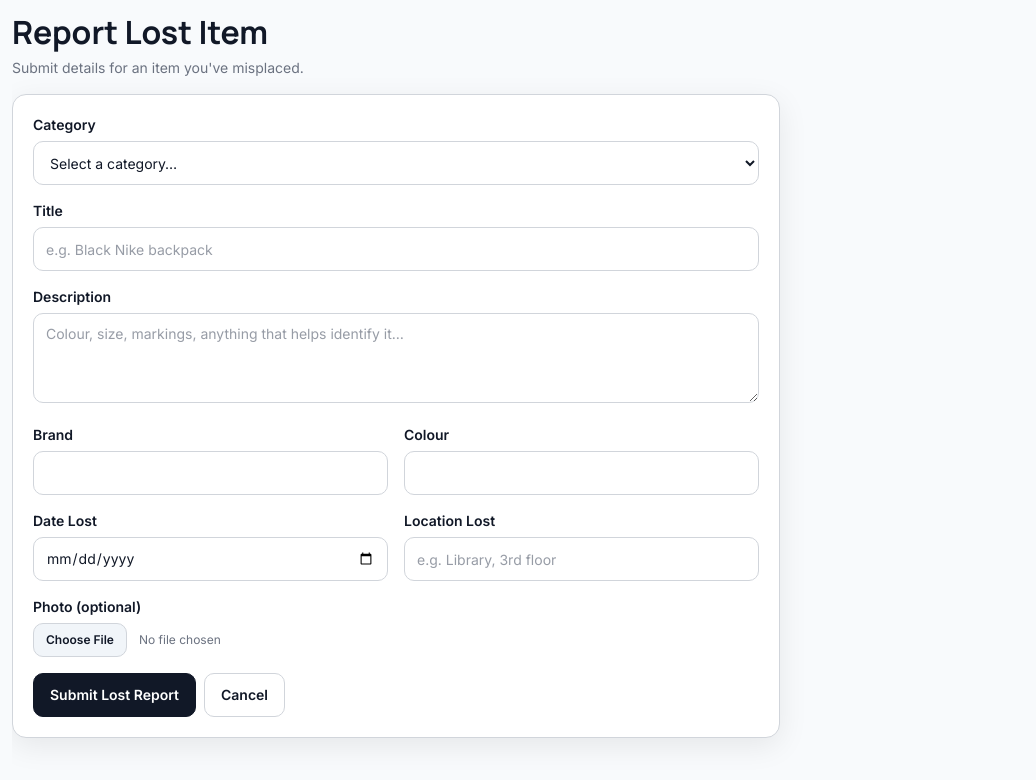
ReportItem — lost item form › shows validation error when title is empty
# Select a category but leave title empty
Select "Electronics" in the dropdown at {"x": 396, "y": 163}, box [33,141,759,185]
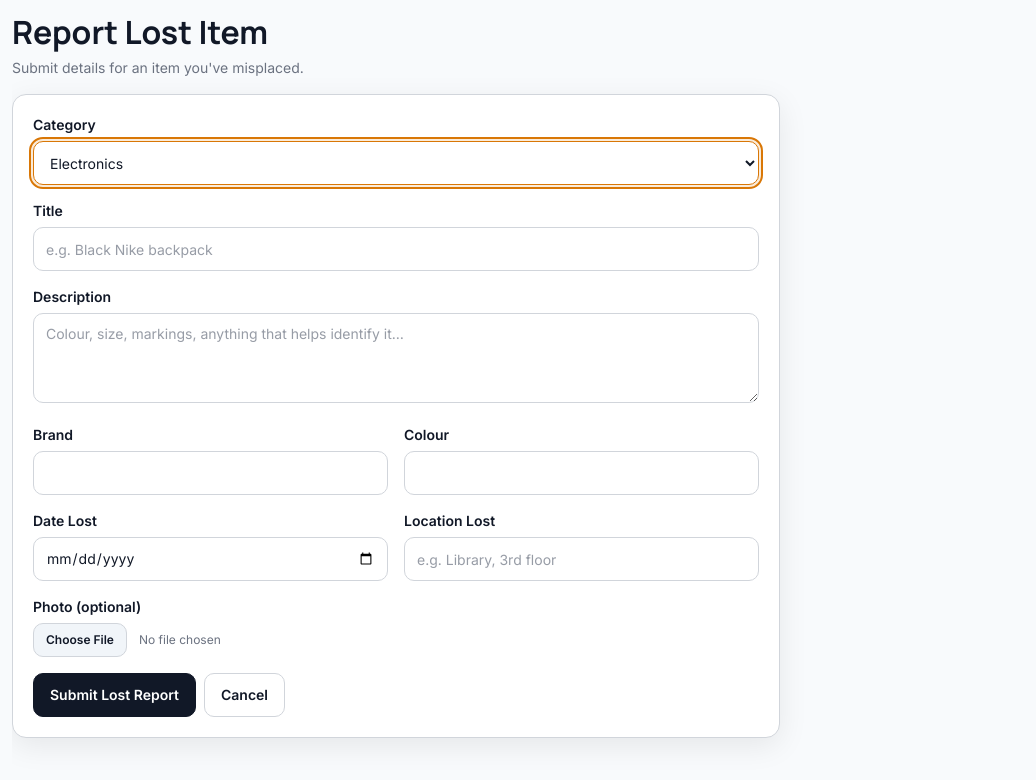
Click the button "Submit Lost Report" at {"x": 114, "y": 695}, box [33,673,196,717]
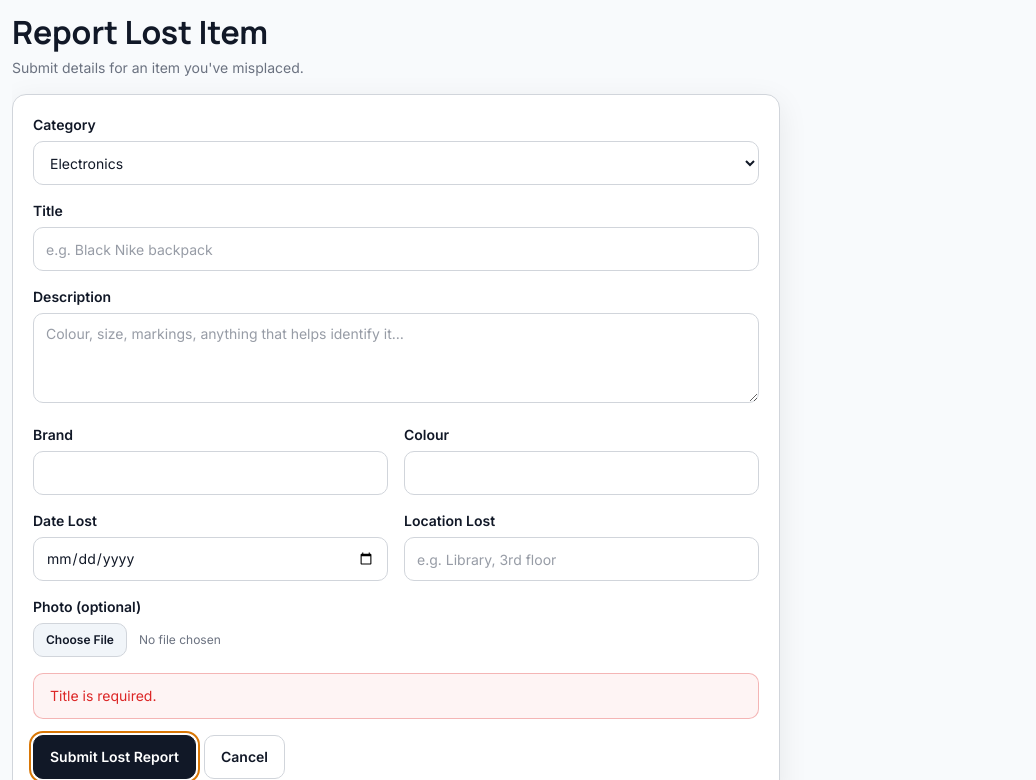
Check: the text "Title is required." is shown, box [33,673,759,719]
